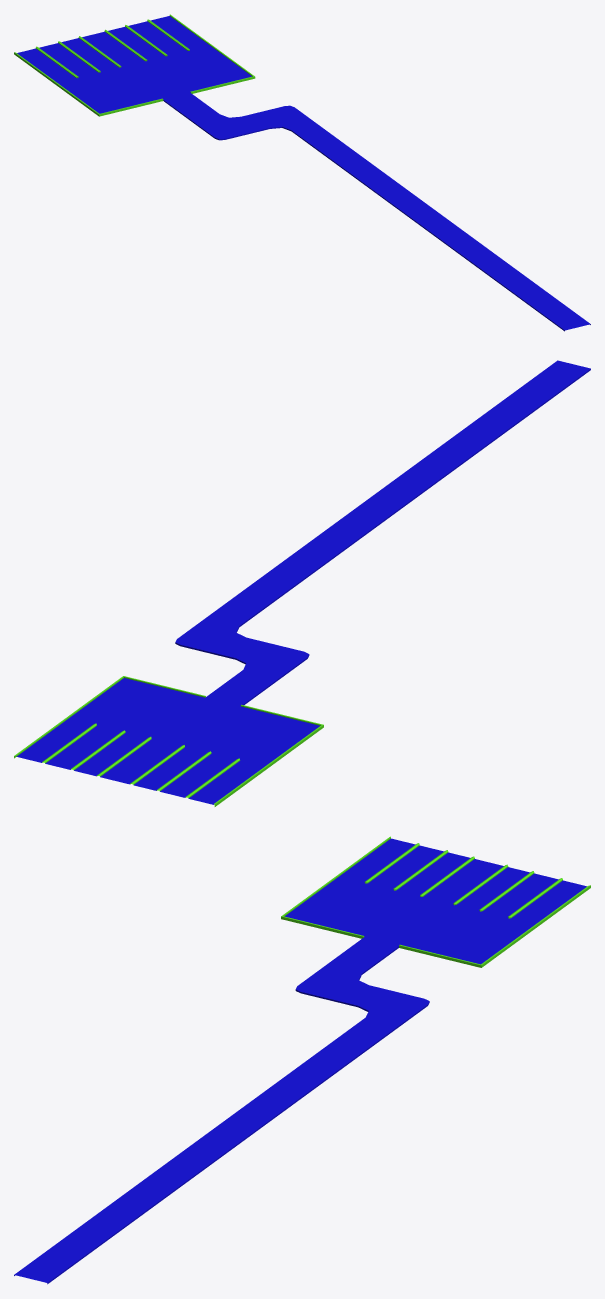
Rendered from Parking Lot.fbx.
3 views of the same model, one above another, from view 1: azimuth 30°, elevation 25°; view 2: azimuth 150°, elevation 25°; view 3: azimuth 330°, elevation 25° (orthographic). The views are drawn at different scales.
Parts seen in each view (by area): view 1: Parking Lot; view 2: Parking Lot; view 3: Parking Lot.
Part boxes in pixels (x1,y1,x2,y2): Parking Lot: [14, 14, 590, 331]; Parking Lot: [14, 360, 590, 806]; Parking Lot: [14, 836, 590, 1284].
Bounding box in the file's own units: 201 × 3.01 × 940.
